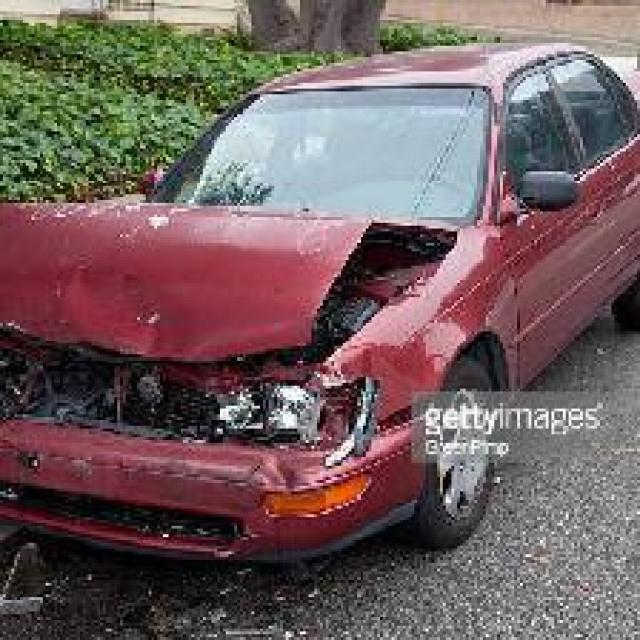damaged: (3, 200, 460, 483)
